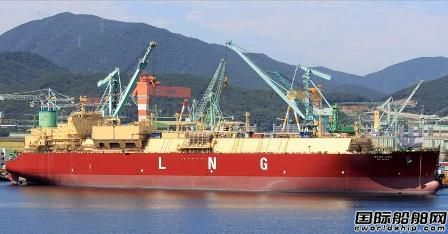Cargoship: (3, 60, 445, 195)
